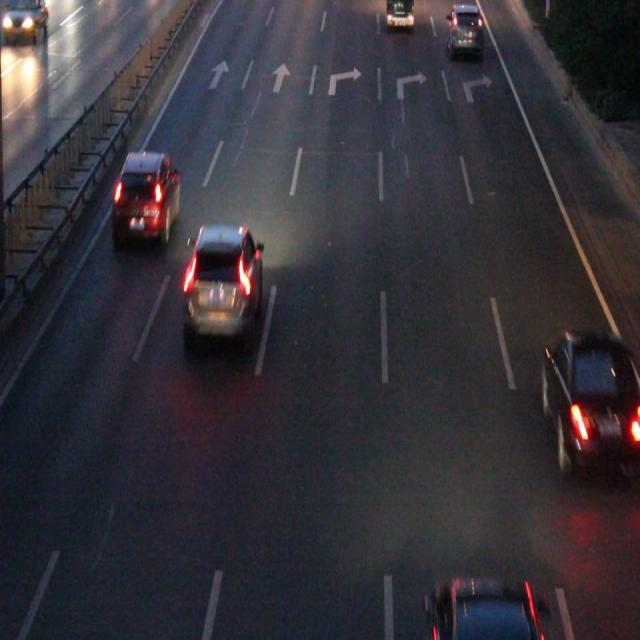car: (544, 332, 640, 468), (183, 224, 261, 335), (428, 578, 550, 640), (115, 151, 179, 241), (446, 1, 481, 55), (385, 1, 412, 25)
